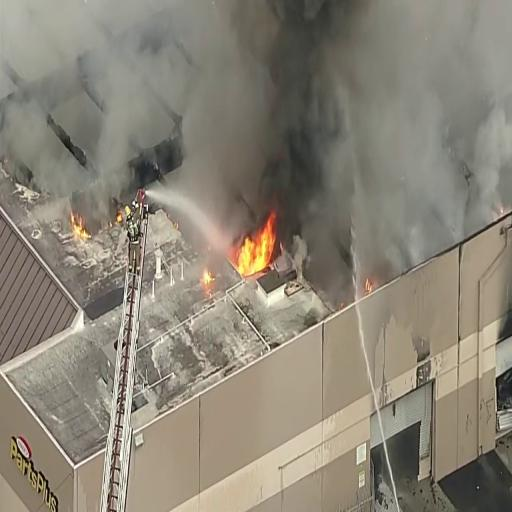fire: (228, 214, 280, 277)
smoke: (266, 0, 344, 208)
